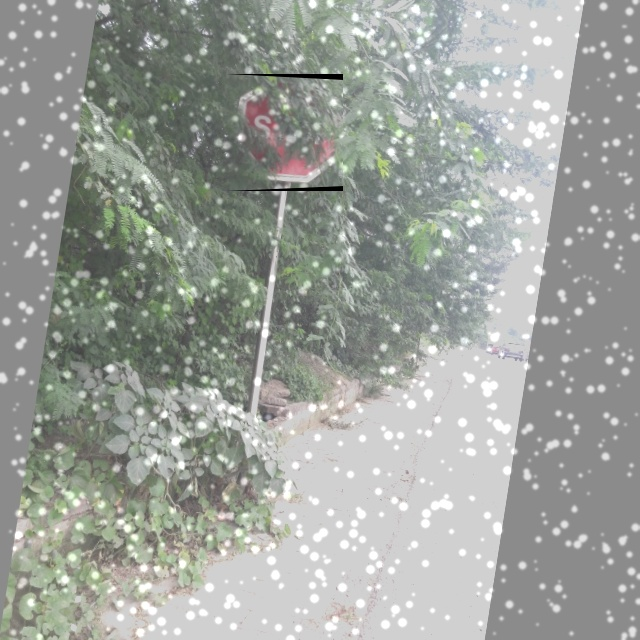Stop: (226, 74, 343, 191)
